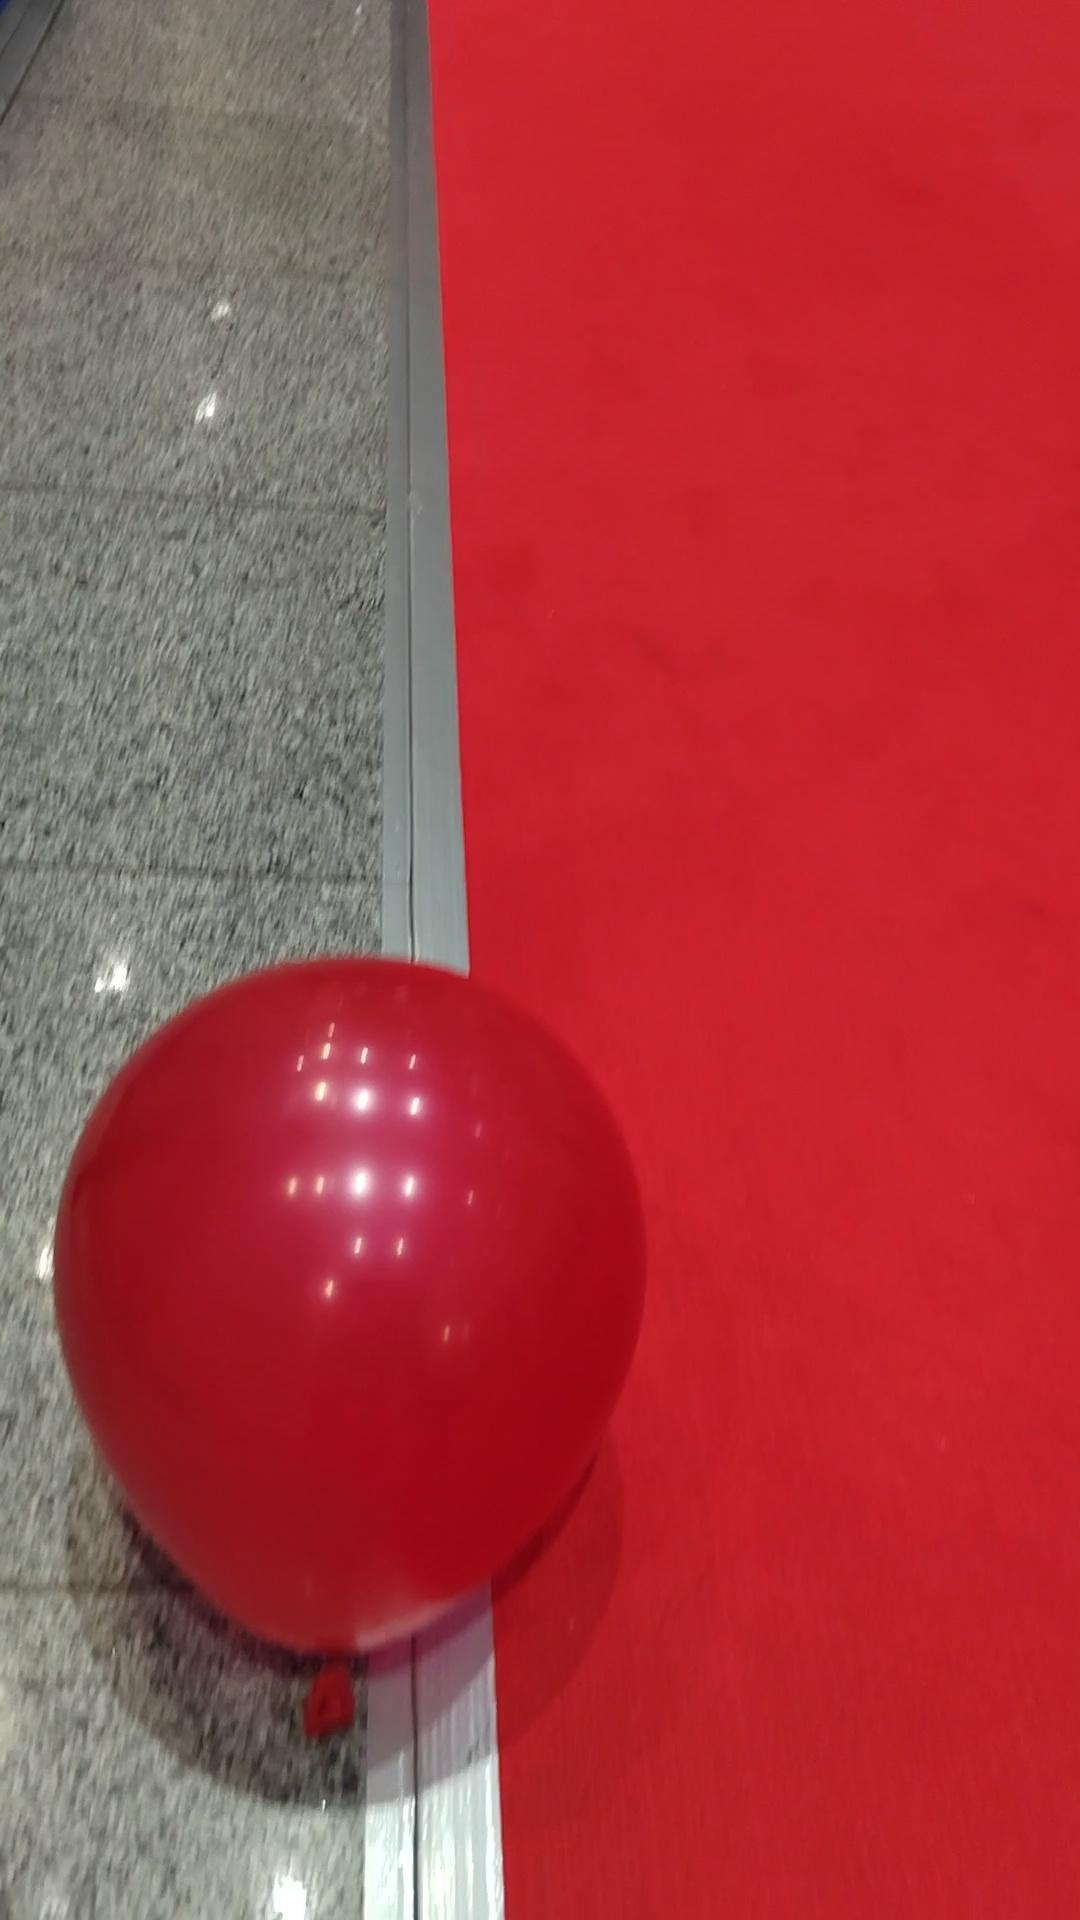red: (37, 952, 646, 1647)
